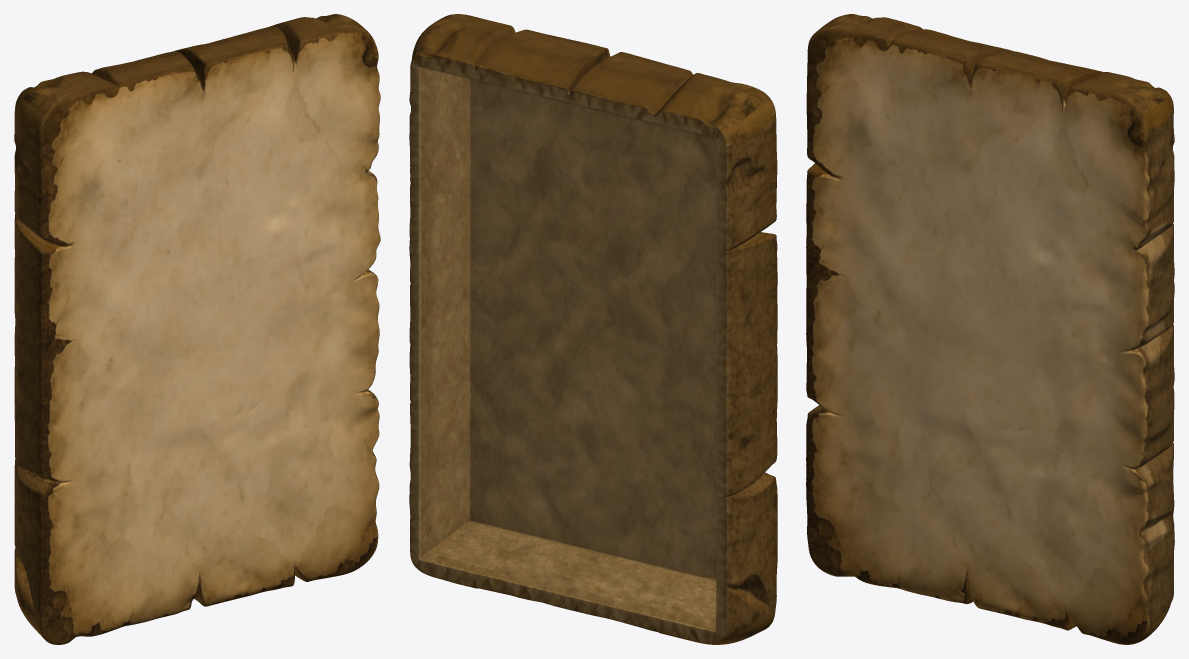
The model's file is card_deck.glb.
3 views of the same model, side by side, from view 1: azimuth 30°, elevation 25°; view 2: azimuth 150°, elevation 25°; view 3: azimuth 330°, elevation 25° (orthographic).
Bounding box in the file's own units: 1.24 × 1.9 × 0.2488.
1 material, 1 textured.
